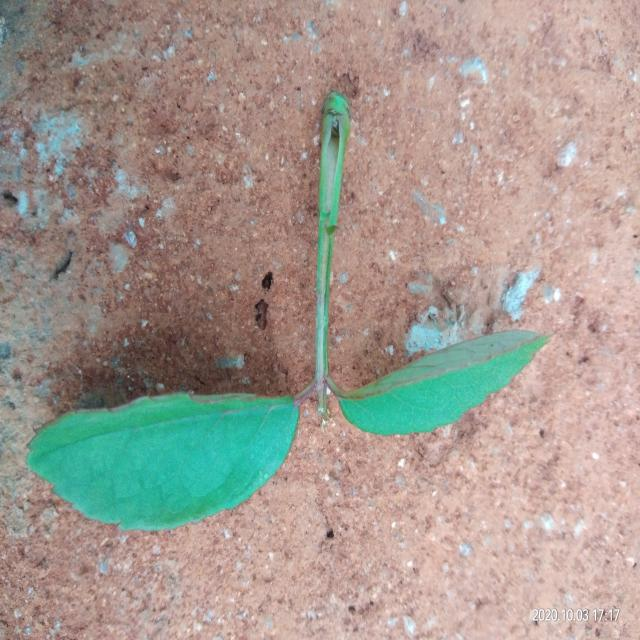rose: (28, 380, 316, 530), (325, 330, 549, 435)
